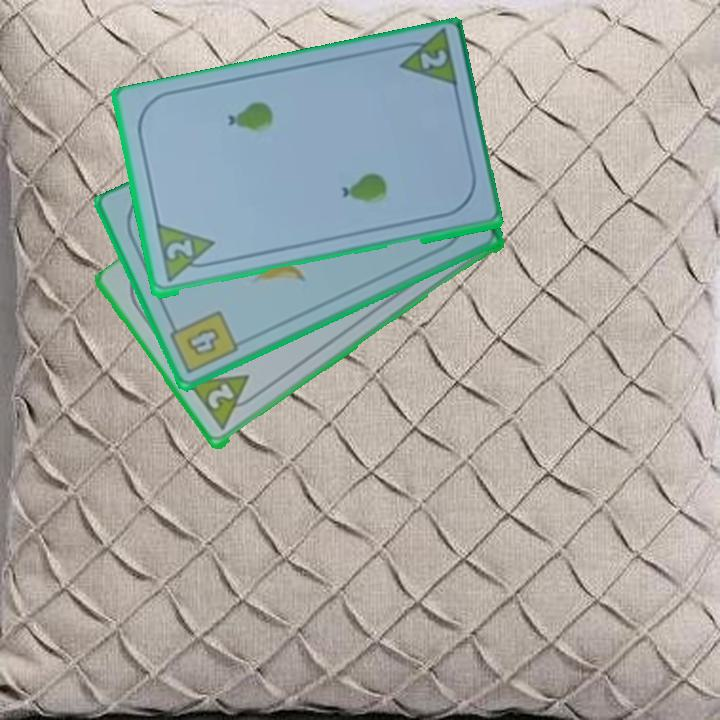2p: (185, 371, 264, 434), (416, 46, 450, 73), (162, 237, 196, 263)
4b: (165, 307, 242, 377)
